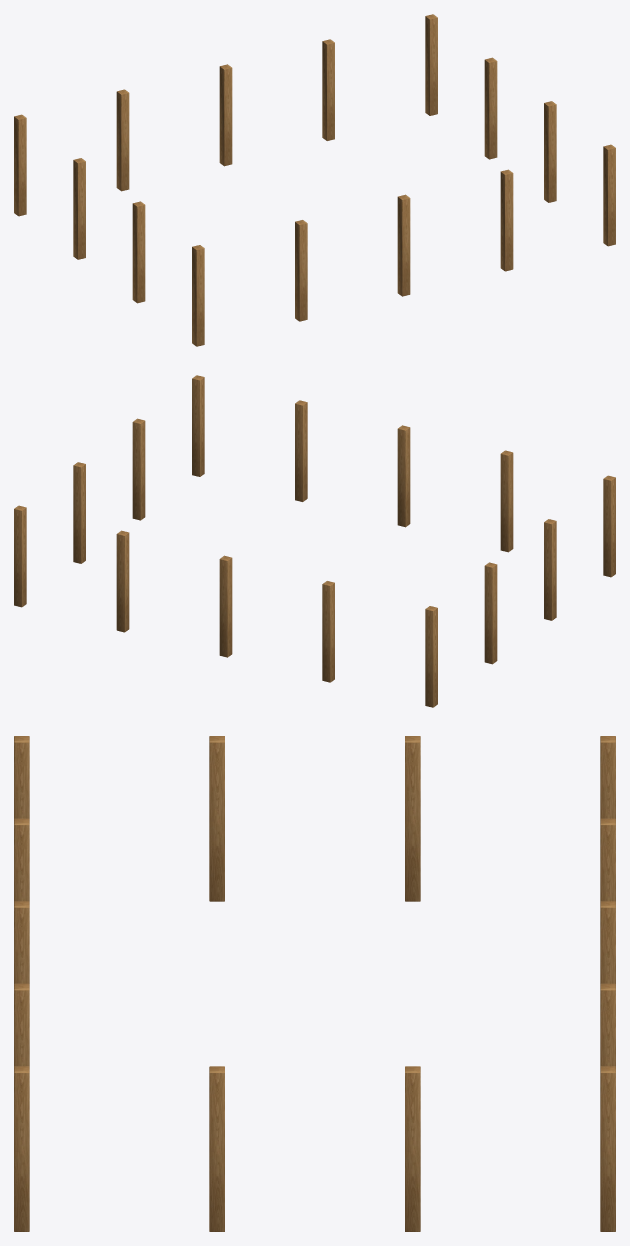
Rendered from SER-LOC-001_anim.glb.
3 views of the same model, one above another, from view 1: azimuth 30°, elevation 25°; view 2: azimuth 150°, elevation 25°; view 3: azimuth 270°, elevation 25° (orthographic). The views are drawn at different scales.
Parts seen in each view (by area): view 1: SER-LOC-001_anim0; view 2: SER-LOC-001_anim0; view 3: SER-LOC-001_anim0.
Part boxes in pixels (left/top/right/bottom): SER-LOC-001_anim0: left=14, top=14, right=615, bottom=346; SER-LOC-001_anim0: left=14, top=375, right=615, bottom=707; SER-LOC-001_anim0: left=14, top=736, right=615, bottom=1231.
Size of the model in its own units: 4.08 by 0.901 by 3.08.
2 materials, 1 textured.
